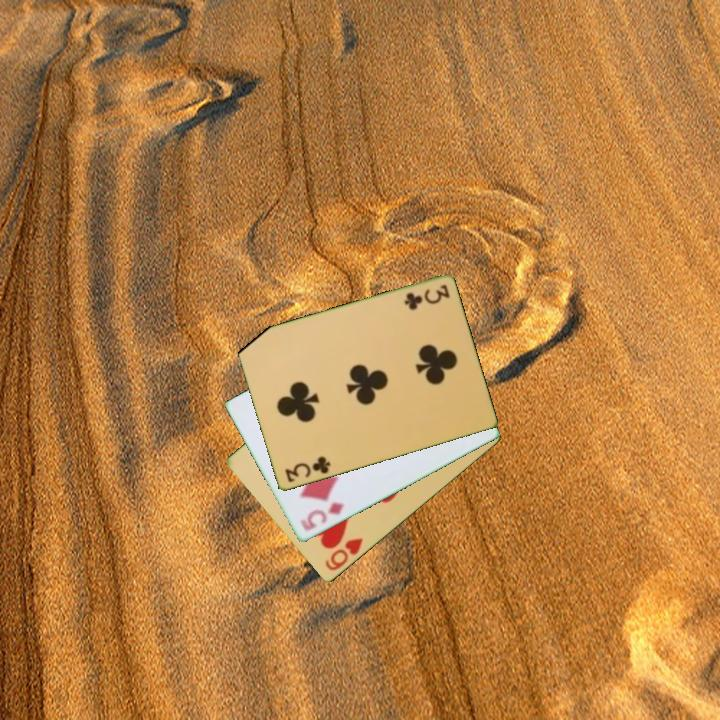3c: (281, 453, 333, 485), (400, 281, 452, 312)
5d: (297, 499, 347, 535)
6h: (322, 535, 366, 574)
